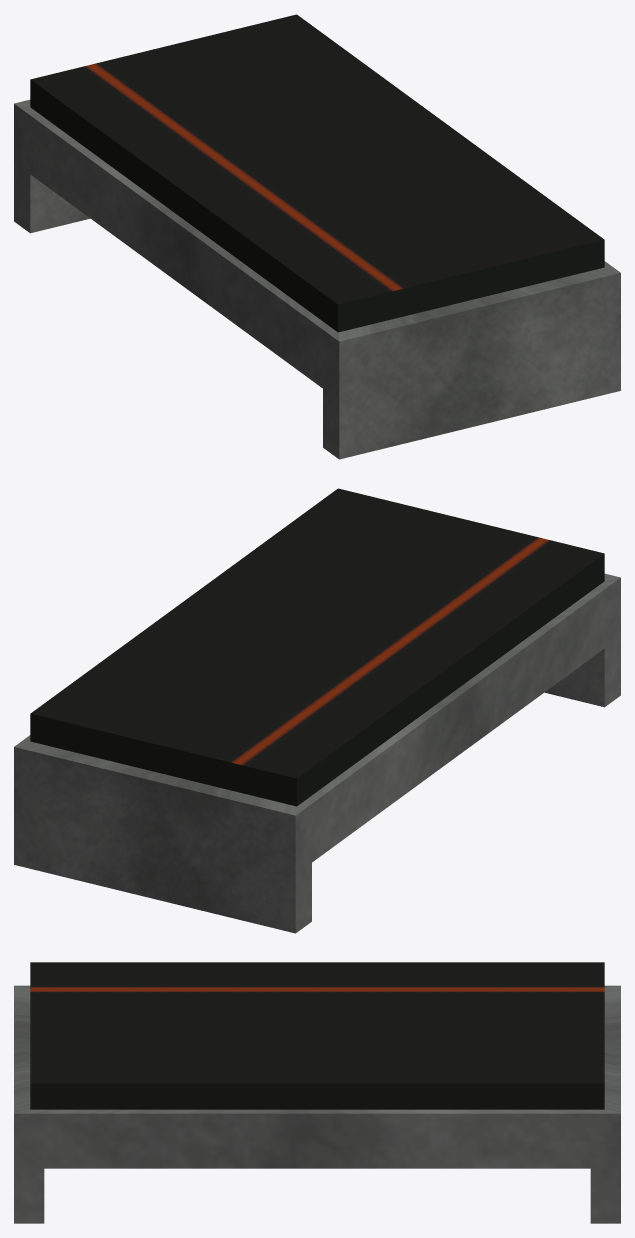
Rendered from Bed.glb.
3 views of the same model, one above another, from view 1: azimuth 30°, elevation 25°; view 2: azimuth 150°, elevation 25°; view 3: azimuth 270°, elevation 25° (orthographic). The views are drawn at different scales.
Visible parts, largest first — view 1: Bed-col; view 2: Bed-col; view 3: Bed-col.
Part boxes in pixels (box(x1,y1,x2,y2)): Bed-col: box(14, 14, 620, 459); Bed-col: box(14, 488, 620, 933); Bed-col: box(14, 962, 620, 1223).
Size of the model in its own units: 2 by 0.9946 by 4.
Materials: 1 (1 with a texture image).
